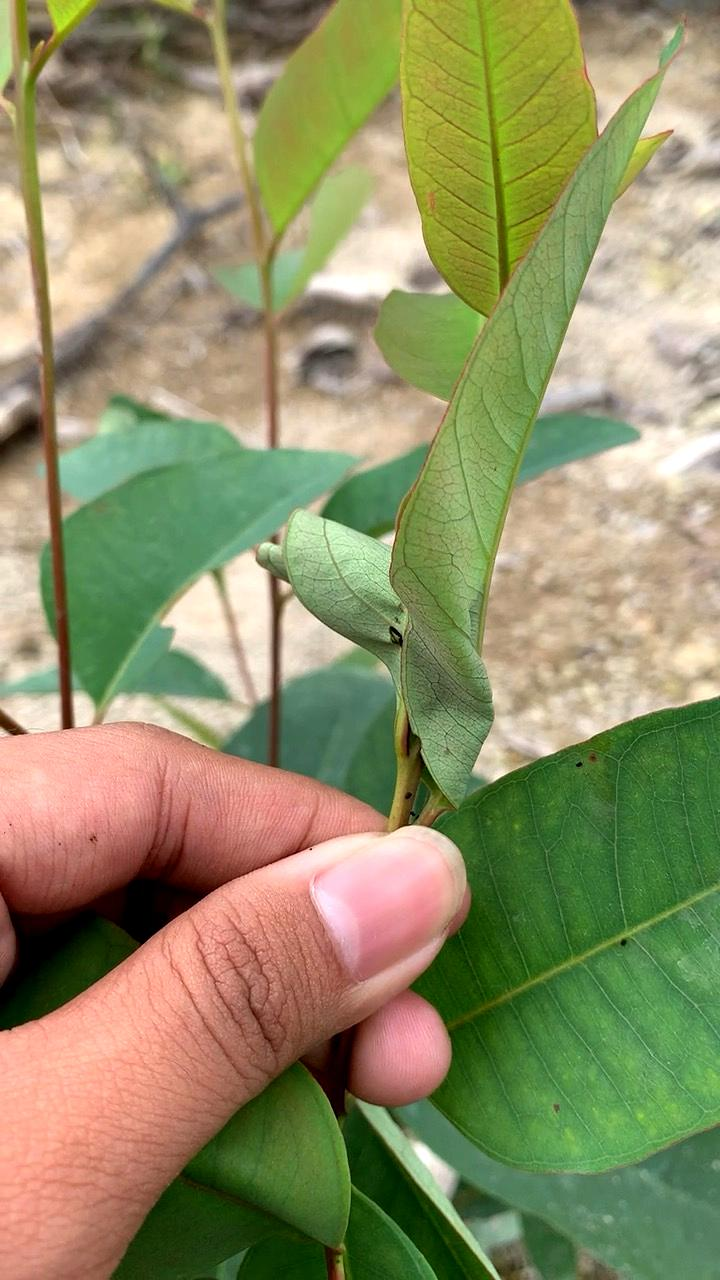Leaf Roller - Leaf: (243, 483, 519, 702)
